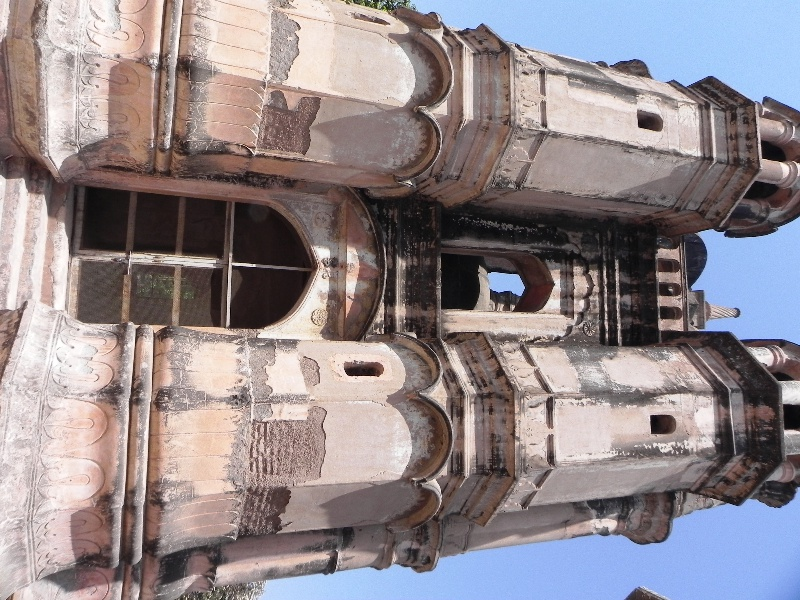Exposed Bricks: (250, 418, 276, 481), (241, 476, 268, 536)
Spalling: (254, 88, 321, 155), (266, 7, 302, 85), (244, 345, 272, 413), (296, 350, 325, 395)
